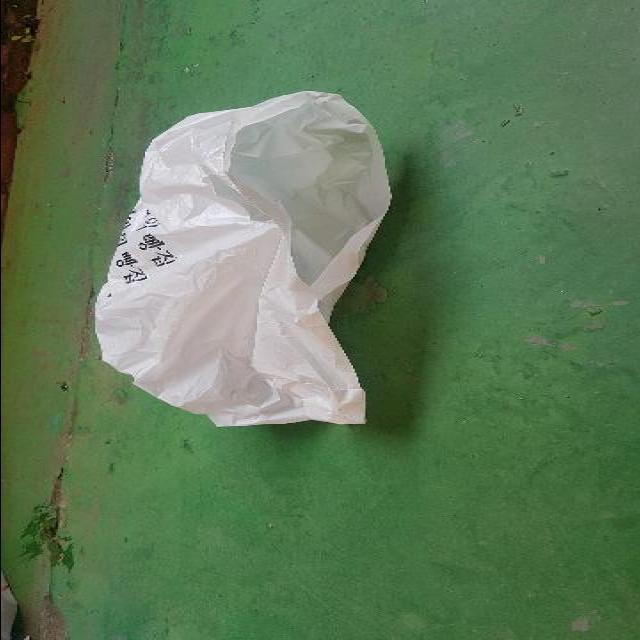plastic bag: (90, 83, 400, 426)
